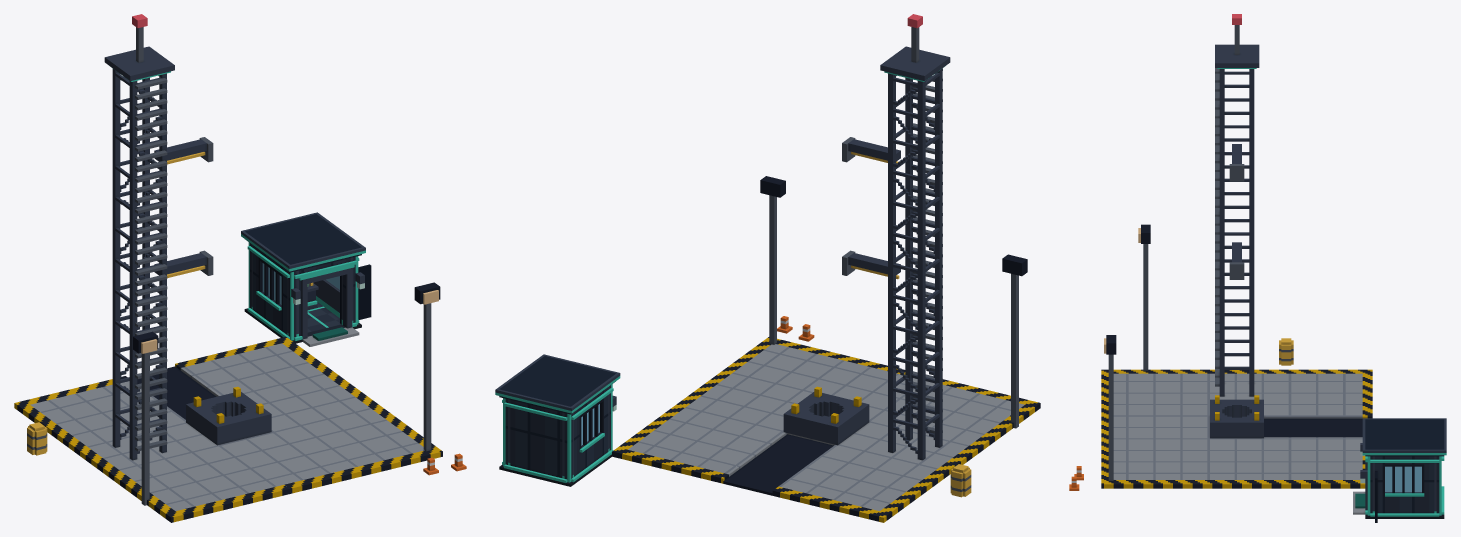
File: pad_e4_l1.glb
3 views of the same model, side by side, from view 1: azimuth 30°, elevation 25°; view 2: azimuth 150°, elevation 25°; view 3: azimuth 270°, elevation 25° (orthographic). The views are drawn at different scales.
Visible parts, largest first — view 1: Base, CutRoof, CutPZ, CutNX; view 2: Base, CutRoof, CutNZ, CutNX; view 3: Base, CutRoof, CutPX, CutPZ.
Boxes of the visible parts, x1=… form: Base: x1=14, y1=14, x2=466, y2=522; CutRoof: x1=241, y1=212, x2=365, y2=272; CutPZ: x1=287, y1=256, x2=371, y2=317; CutNX: x1=247, y1=245, x2=289, y2=313; Base: x1=499, y1=14, x2=1040, y2=522; CutRoof: x1=495, y1=354, x2=620, y2=414; CutNZ: x1=503, y1=398, x2=573, y2=459; CutNX: x1=571, y1=387, x2=613, y2=455; Base: x1=1069, y1=14, x2=1444, y2=522; CutRoof: x1=1362, y1=418, x2=1446, y2=456; CutPX: x1=1370, y1=456, x2=1439, y2=496; CutPZ: x1=1360, y1=443, x2=1377, y2=502.
Bounding box in the file's own units: 15.9 × 16.9 × 15.3.
